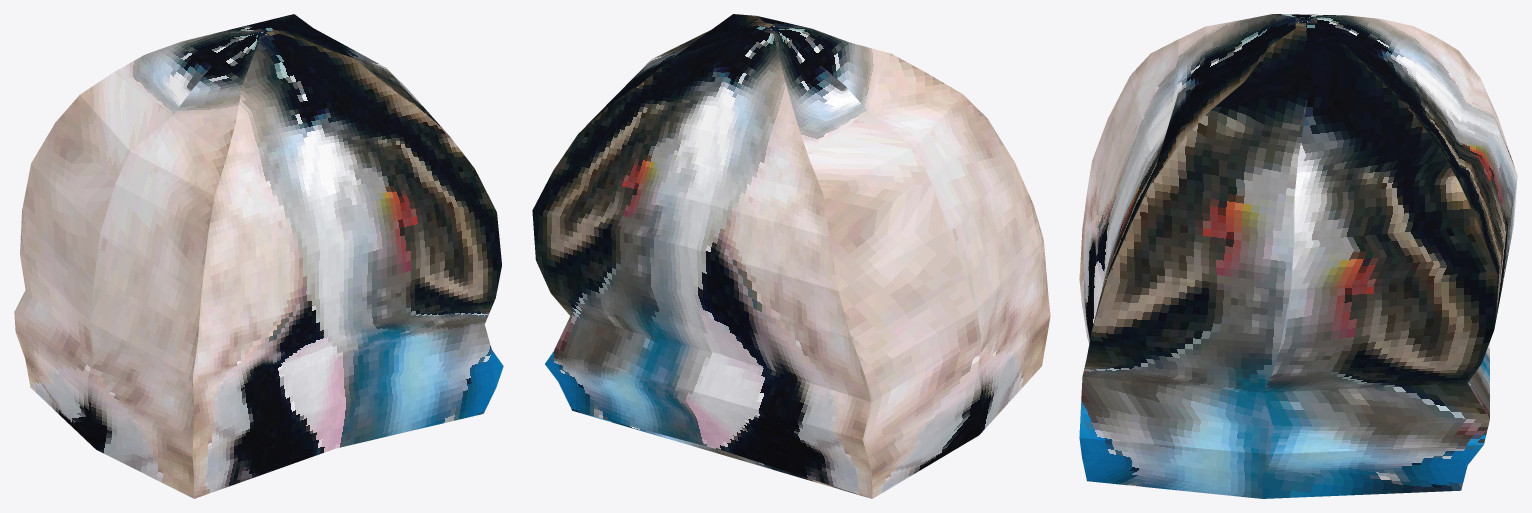
3 views of the same model, side by side, from view 1: azimuth 30°, elevation 25°; view 2: azimuth 150°, elevation 25°; view 3: azimuth 270°, elevation 25° (orthographic). The views are drawn at different scales.
Parts seen in each view (by area): view 1: SPLICE_2; view 2: SPLICE_2; view 3: SPLICE_2.
Boxes of the visible parts, x1=… form: SPLICE_2: x1=14, y1=14, x2=503, y2=498; SPLICE_2: x1=532, y1=14, x2=1050, y2=498; SPLICE_2: x1=1079, y1=14, x2=1517, y2=498.
Size of the model in its own units: 1.29 by 1.26 by 1.2.
1 material, 1 textured.
